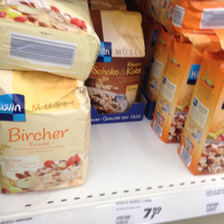cereal: (1, 71, 90, 196), (88, 10, 147, 115)
